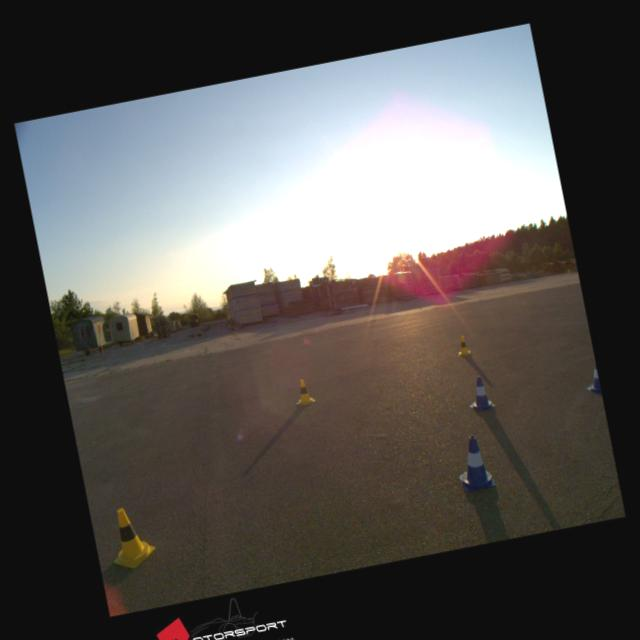blue_cone: (452, 434, 494, 493), (464, 373, 495, 411), (582, 362, 602, 396)
yellow_cone: (103, 502, 159, 572), (292, 378, 316, 407), (454, 334, 472, 356)
